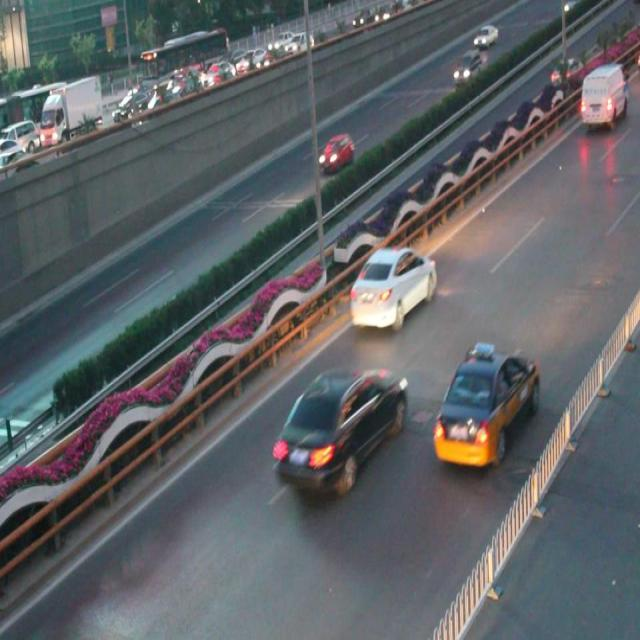car: (274, 364, 406, 494), (433, 340, 536, 468), (348, 247, 436, 333), (316, 131, 354, 170)
